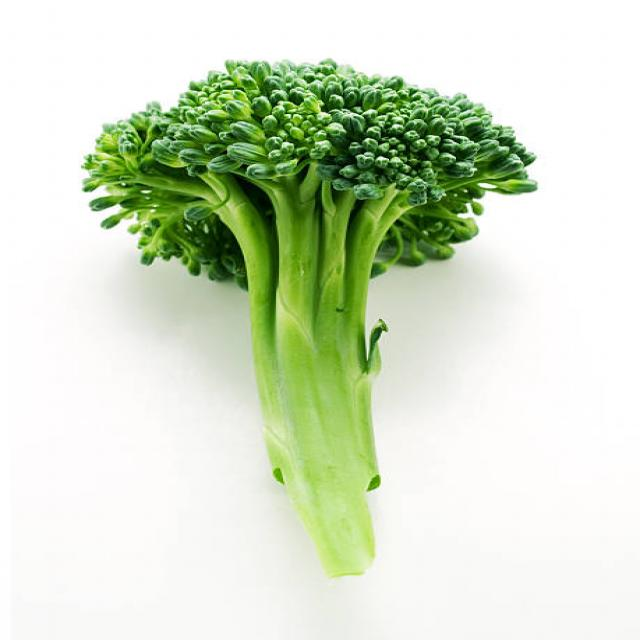Broccoli head: (62, 58, 570, 604)
